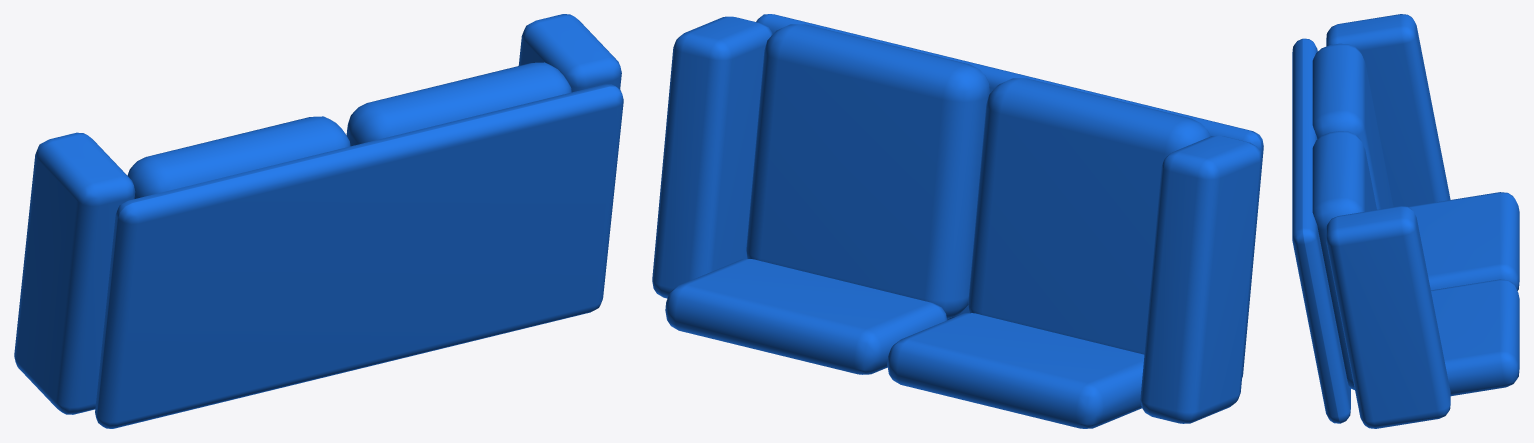
Rendered from EM_Seat.fbx.
3 views of the same model, side by side, from view 1: azimuth 30°, elevation 25°; view 2: azimuth 150°, elevation 25°; view 3: azimuth 270°, elevation 25° (orthographic). The views are drawn at different scales.
Parts seen in each view (by area): view 1: EM_Seat; view 2: EM_Seat; view 3: EM_Seat.
Part boxes in pixels (x1=…): EM_Seat: x1=14, y1=14, x2=623, y2=428; EM_Seat: x1=652, y1=14, x2=1263, y2=428; EM_Seat: x1=1292, y1=14, x2=1519, y2=428.
Size of the model in its own units: 4.42 by 2.04 by 1.98.
